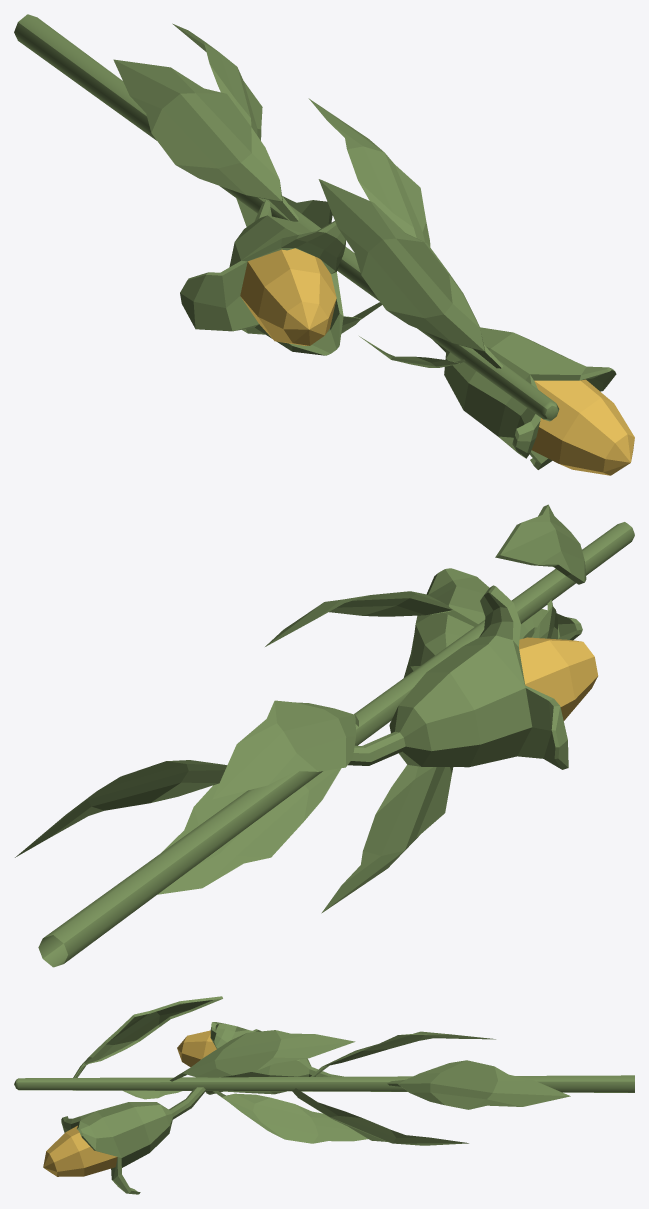
Rendered from Corn1_P.fbx.
3 renders of one model, top to bottom at view 1: azimuth 30°, elevation 25°; view 2: azimuth 150°, elevation 25°; view 3: azimuth 270°, elevation 25°, orthographic. The views are drawn at different scales.
Parts seen in each view (by area): view 1: Corn1_P; view 2: Corn1_P; view 3: Corn1_P.
Boxes of the visible parts, x1,y1,x2,y2 form: Corn1_P: (14,14,634,475); Corn1_P: (15,504,634,967); Corn1_P: (14,996,634,1194).
Size of the model in its own units: 1.21 by 3.98 by 1.1.
